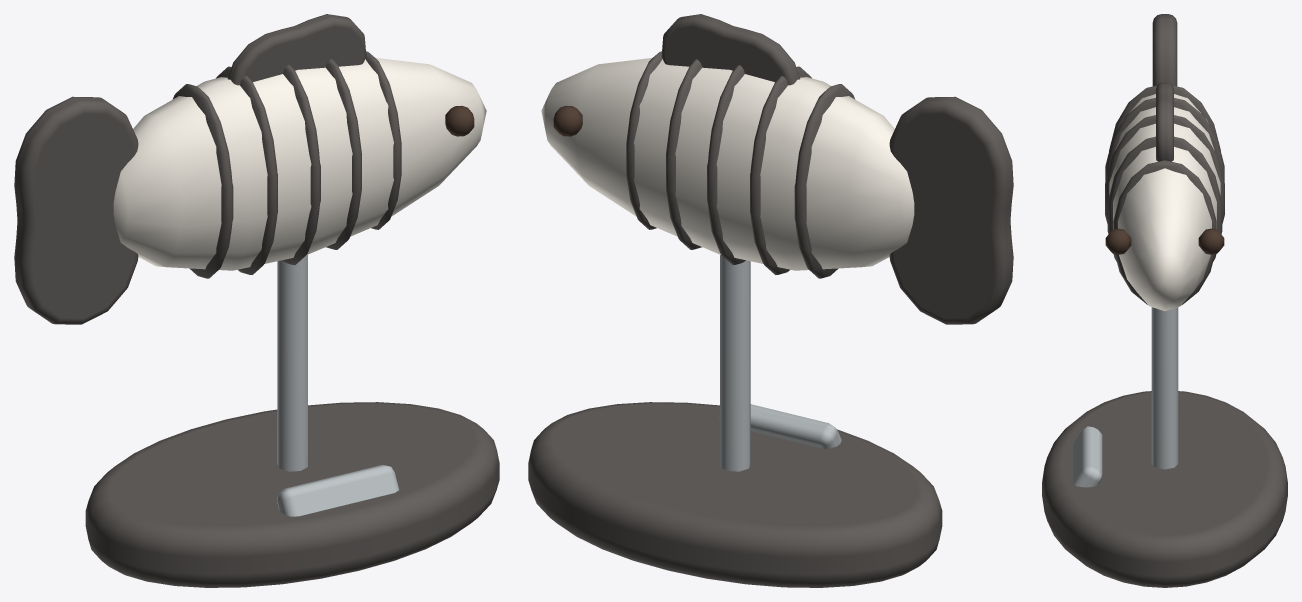
The model's file is striped_fish_model.glb.
The picture shows the model from 3 angles, left to right: view 1: azimuth 30°, elevation 25°; view 2: azimuth 150°, elevation 25°; view 3: azimuth 270°, elevation 25°; orthographic projection. The views are drawn at different scales.
Parts seen in each view (by area): view 1: striped_fish_model_mesh; view 2: striped_fish_model_mesh; view 3: striped_fish_model_mesh.
Part boxes in pixels (box(x1,y1,x2,y2)): striped_fish_model_mesh: box(14, 14, 499, 587); striped_fish_model_mesh: box(528, 14, 1013, 587); striped_fish_model_mesh: box(1042, 14, 1287, 587).
Size of the model in its own units: 0.4111 by 0.419 by 0.22.
